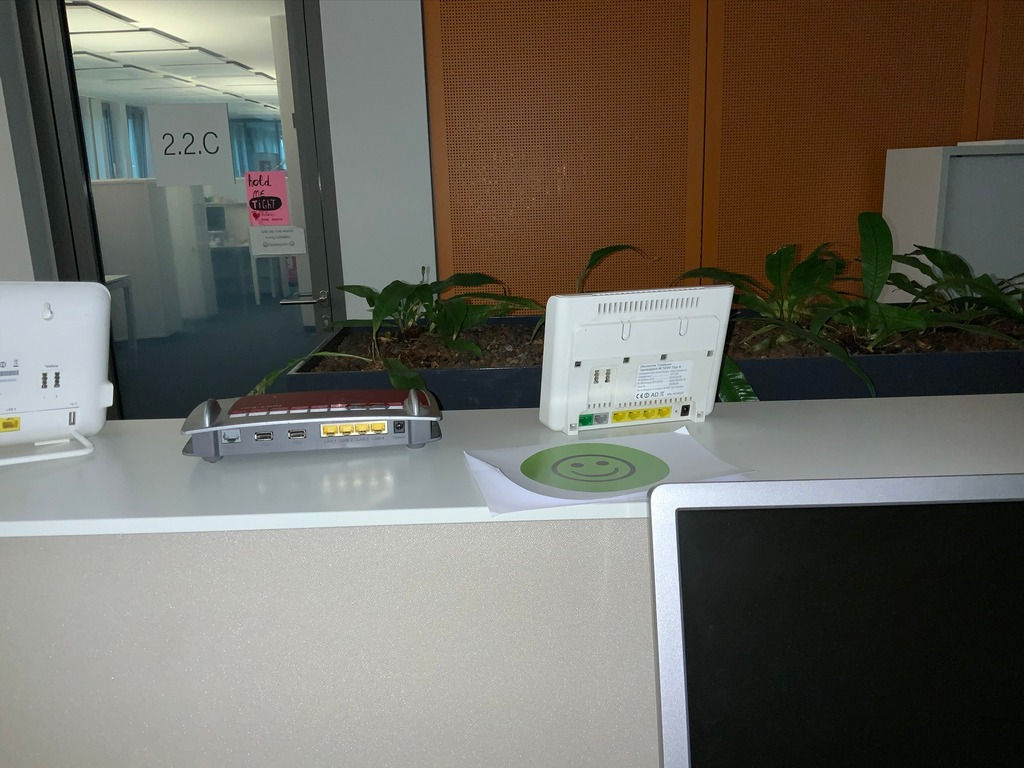Router2: (539, 280, 737, 442)
router: (1, 278, 117, 459)
router3: (182, 384, 445, 467)
